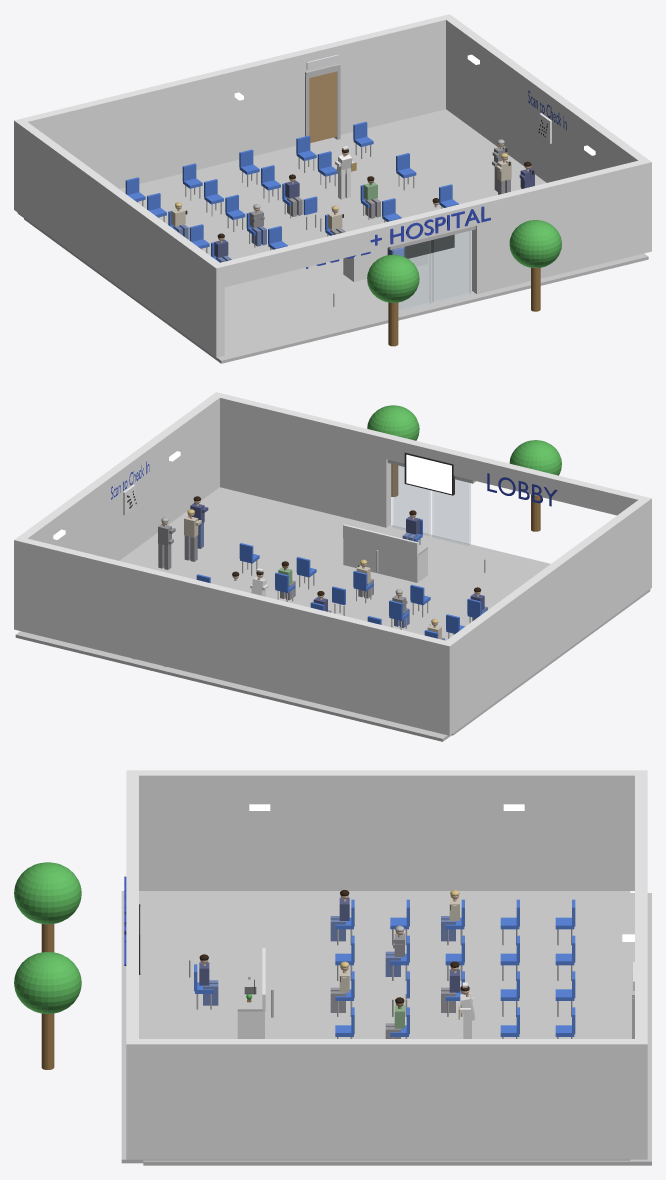
The model's file is netra.glb.
3 renders of one model, top to bottom at view 1: azimuth 30°, elevation 25°; view 2: azimuth 150°, elevation 25°; view 3: azimuth 270°, elevation 25°, orthographic. The views are drawn at different scales.
Visible parts, largest first — view 1: Floor.002, WallBack.001, WallLeft.001, WallRight.001, WallFront_R.001, WallFront_Top.001, DoorGlass_R.001, Tree_Top_-2.001, Tree_Top_2.001, DoctorDoor.001, DoorGlass_L.001, Floor.003 (+3 smaller); view 2: WallBack.001, Floor.002, WallLeft.001, WallRight.001, WallFront_R.001, WallFront_Top.001, Floor.003, Desk_Body.001, DoorGlass_L.001, DoorGlass_R.001, TV_Screen.001, Tree_Top_2.001 (+3 smaller); view 3: Floor.002, WallRight.001, WallLeft.001, Floor.003, WallBack.001, Tree_Top_-2.001, Tree_Top_2.001, WallFront_Top.001, Desk_Top.001, WallFront_R.001, Tree_Trunk_2.001, Desk_Body.001.
Boxes of the visible parts, <box> form: Floor.002: <box>24,112,648,363</box>; WallBack.001: <box>19,15,449,188</box>; WallLeft.001: <box>14,119,224,357</box>; WallRight.001: <box>442,14,651,252</box>; WallFront_R.001: <box>472,160,647,294</box>; WallFront_Top.001: <box>220,159,647,286</box>; DoorGlass_R.001: <box>432,231,470,302</box>; Tree_Top_-2.001: <box>367,254,419,302</box>; Tree_Top_2.001: <box>509,220,561,267</box>; DoctorDoor.001: <box>309,71,336,142</box>; DoorGlass_L.001: <box>392,240,430,311</box>; Floor.003: <box>17,109,449,217</box>; WallBack.001: <box>18,537,448,734</box>; Floor.002: <box>119,487,650,735</box>; WallLeft.001: <box>441,496,651,735</box>; WallRight.001: <box>14,392,223,631</box>; WallFront_R.001: <box>216,393,391,527</box>; WallFront_Top.001: <box>216,393,643,515</box>; Floor.003: <box>15,631,451,741</box>; Desk_Body.001: <box>343,538,427,582</box>; DoorGlass_L.001: <box>432,479,470,545</box>; DoorGlass_R.001: <box>392,464,430,536</box>; TV_Screen.001: <box>406,454,451,494</box>; Tree_Top_2.001: <box>367,405,419,440</box>; Floor.002: <box>121,891,630,1163</box>; WallRight.001: <box>126,1039,647,1159</box>; WallLeft.001: <box>126,770,647,890</box>; Floor.003: <box>143,893,651,1165</box>; WallBack.001: <box>635,775,647,1038</box>; Tree_Top_-2.001: <box>14,862,81,924</box>; Tree_Top_2.001: <box>14,952,81,1013</box>; WallFront_Top.001: <box>126,775,138,1038</box>; Desk_Top.001: <box>237,963,264,1011</box>; WallFront_R.001: <box>126,934,138,1038</box>; Tree_Trunk_2.001: <box>41,1013,54,1069</box>; Desk_Body.001: <box>237,1011,264,1038</box>.
Size of the model in its own units: 15.3 by 3.21 by 15.05.
